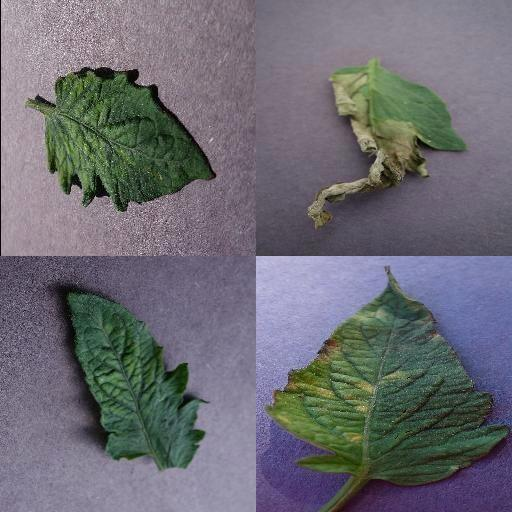Late Blight: (306, 65, 466, 229)
Leaf Mold: (266, 266, 510, 488)
Mosaic Virus: (63, 291, 211, 473), (44, 66, 218, 212)
